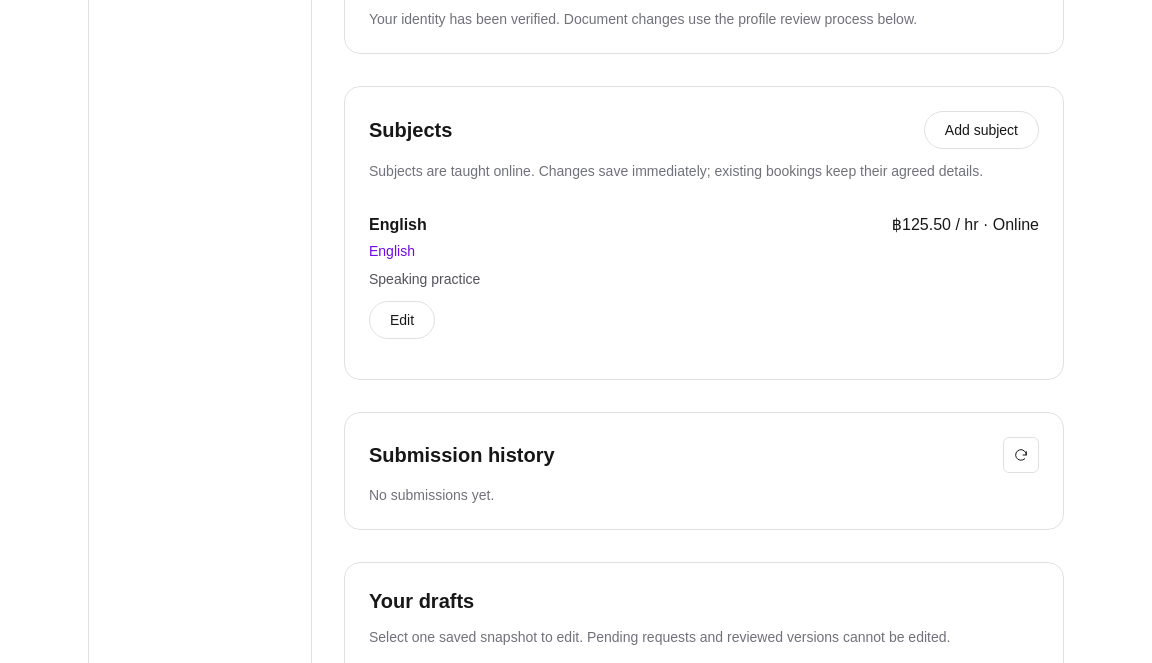
Scenario: keeps unsaved input on server failure and supports retry
(page scrolled)
Expected: the element "Subjects" is shown, [344, 86, 1064, 380]
Click the button "Edit".
click(402, 320)  # box [369, 301, 435, 339]
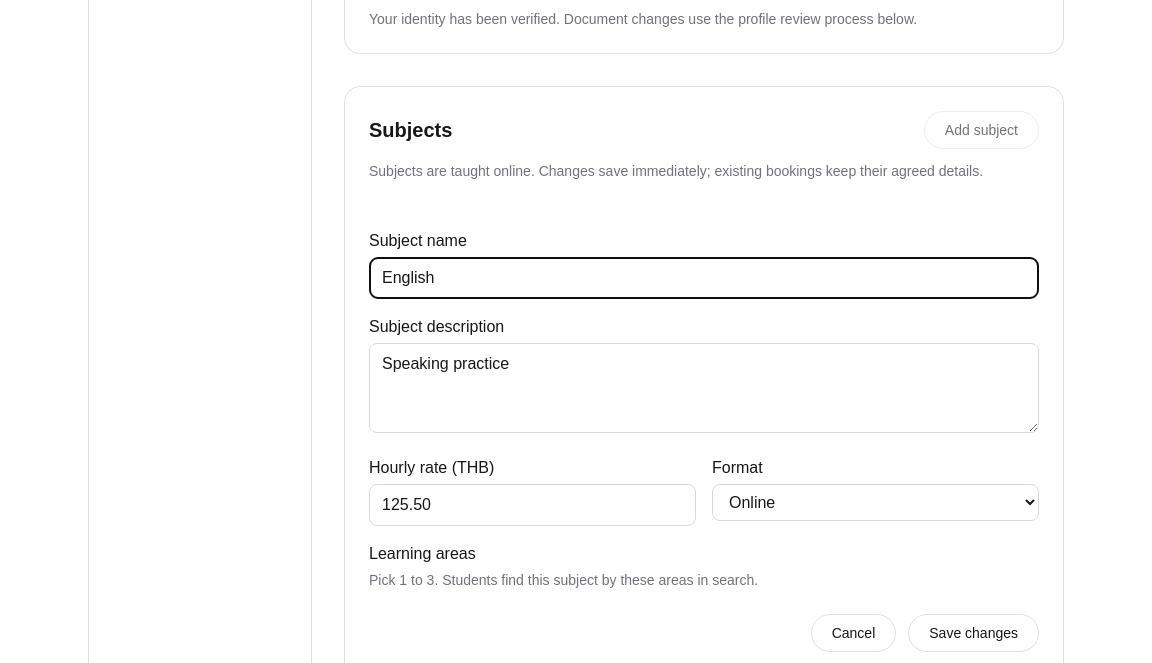
Replace the text in the field labelled "Subject name" with "Mathematics" at point(704, 278), box [369, 257, 1039, 299]
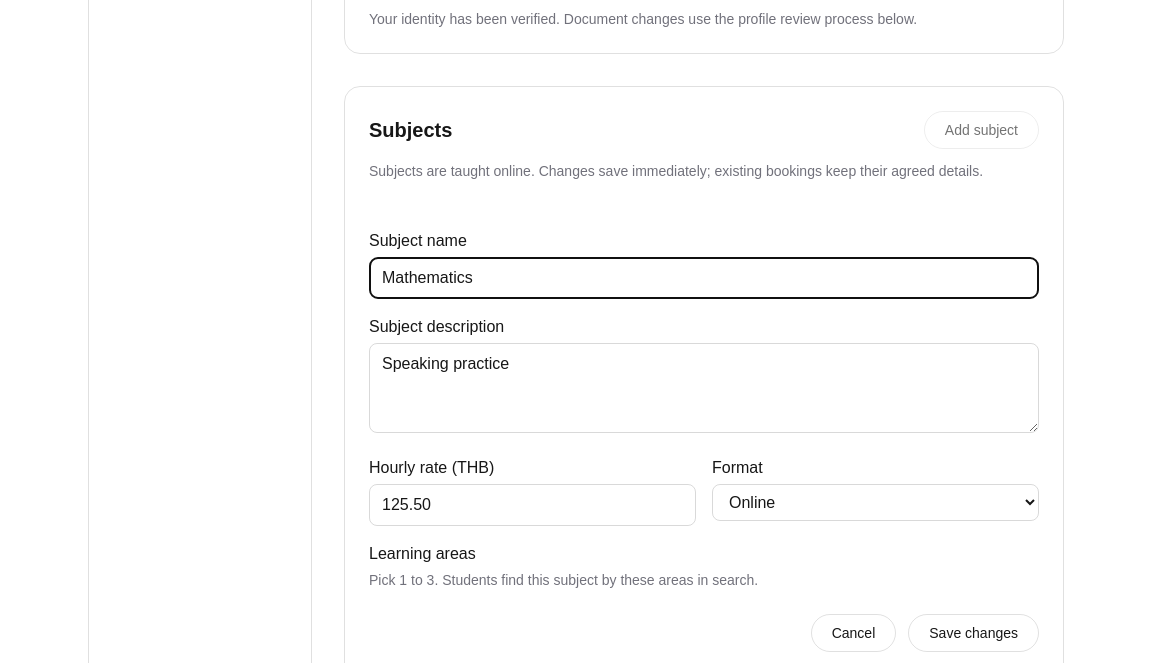
Replace the text in the text box labelled "Subject description" with "Algebra" at point(704, 388), box [369, 343, 1039, 433]
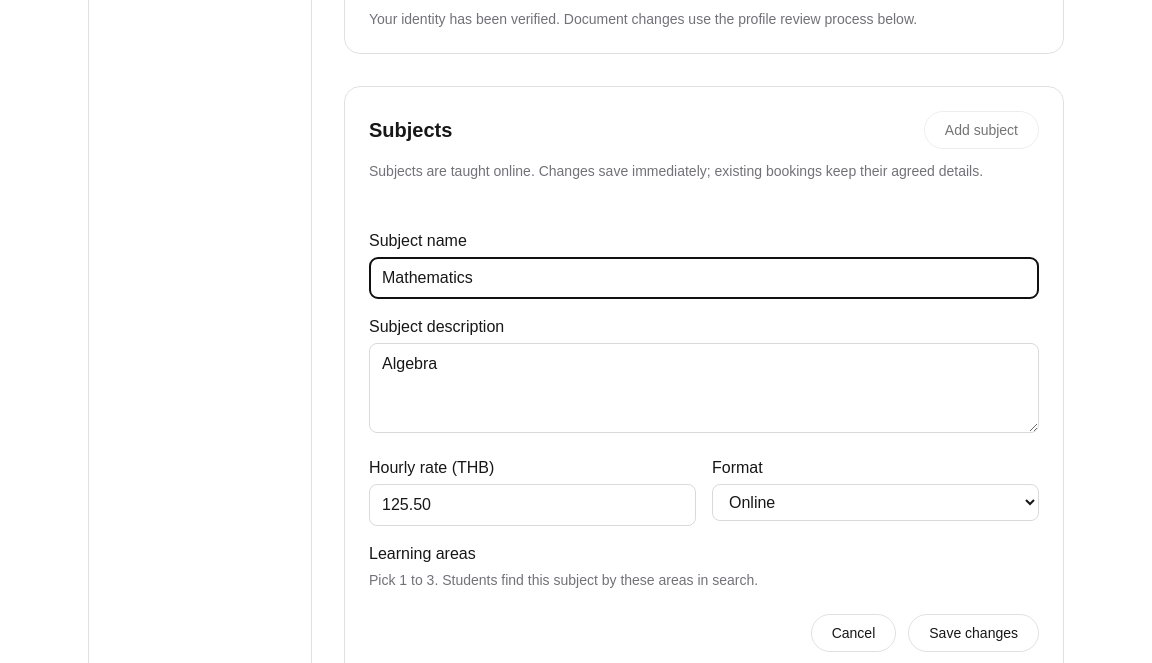
Replace the text in the field labelled "Hourly rate (THB)" with "99.99" at point(532, 505), box [369, 484, 696, 526]
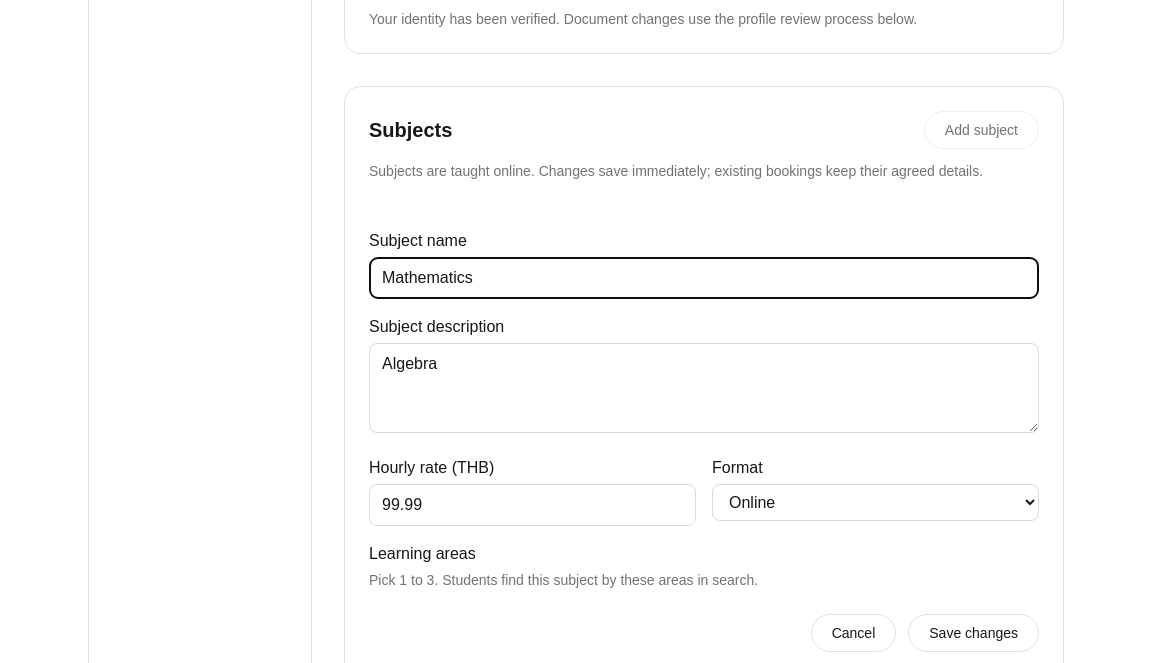
Submit the form named "Edit subject", box [369, 229, 1039, 652]
(page scrolled)
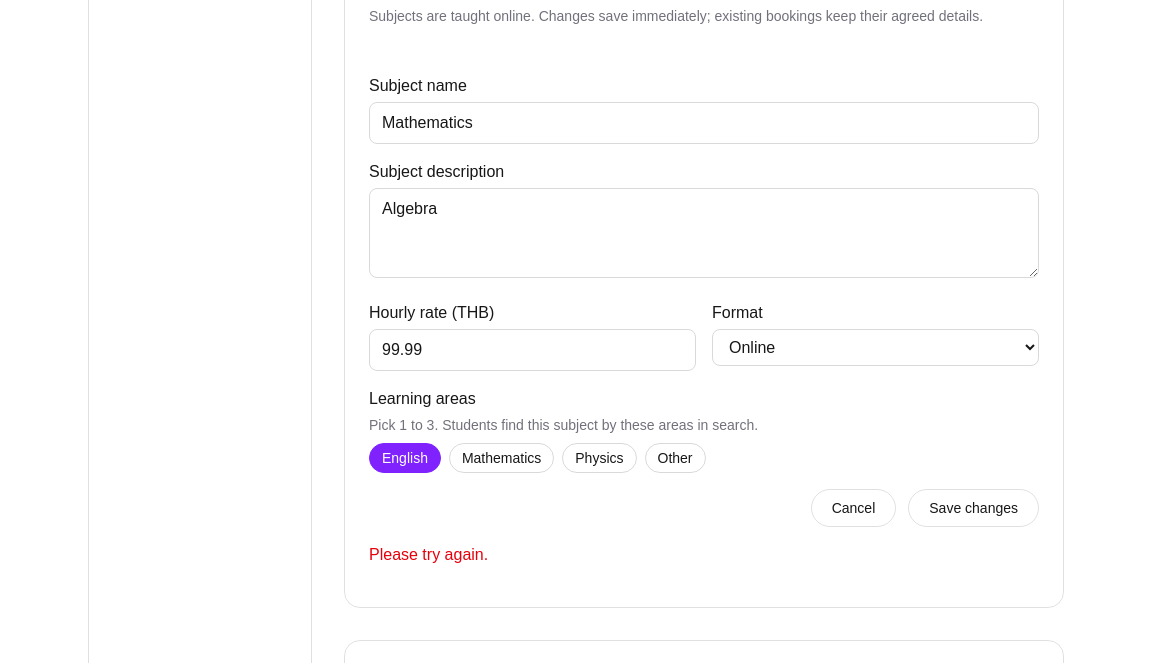
Expected: the message reads "Please try again.", [369, 546, 488, 563]
Submit the form named "Edit subject", box [369, 74, 1039, 567]
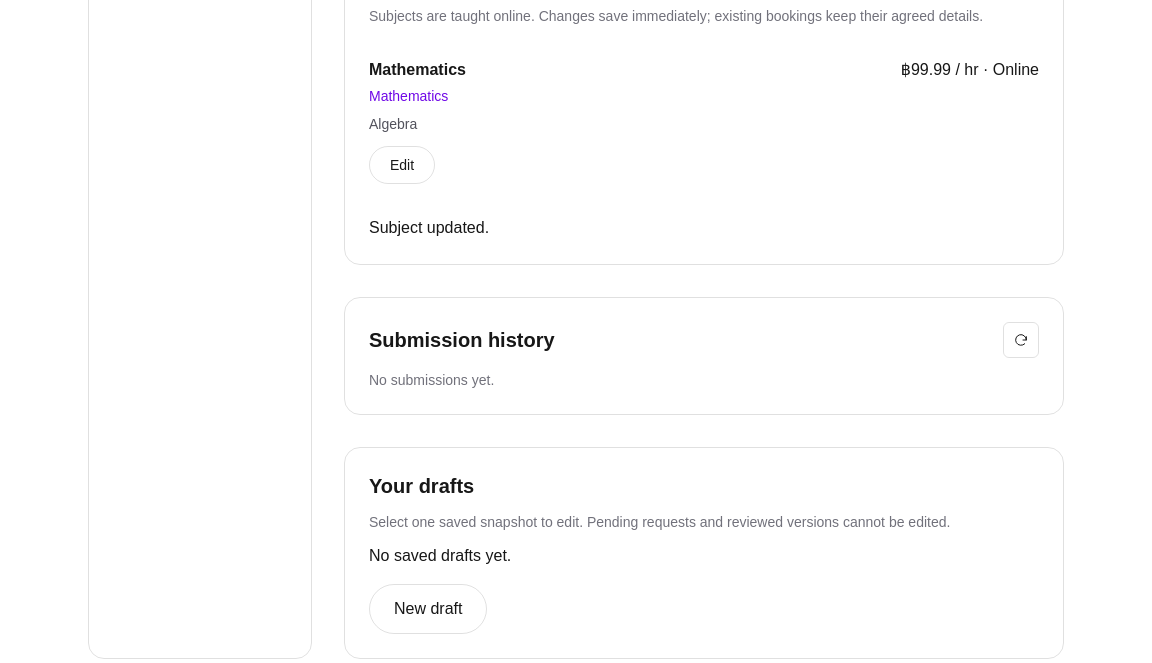
Expected: the text "Subject updated." is shown, [369, 219, 489, 236]
